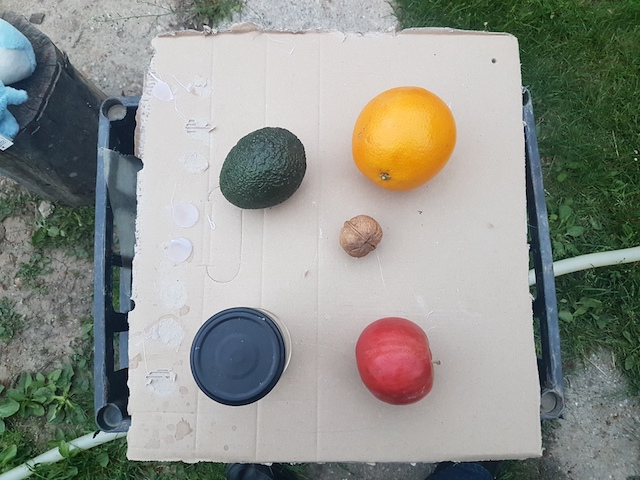apple: (352, 313, 450, 406)
avocado: (212, 124, 312, 210)
nut: (336, 213, 386, 256)
orange: (351, 85, 458, 190)
recipient: (187, 306, 291, 406)
